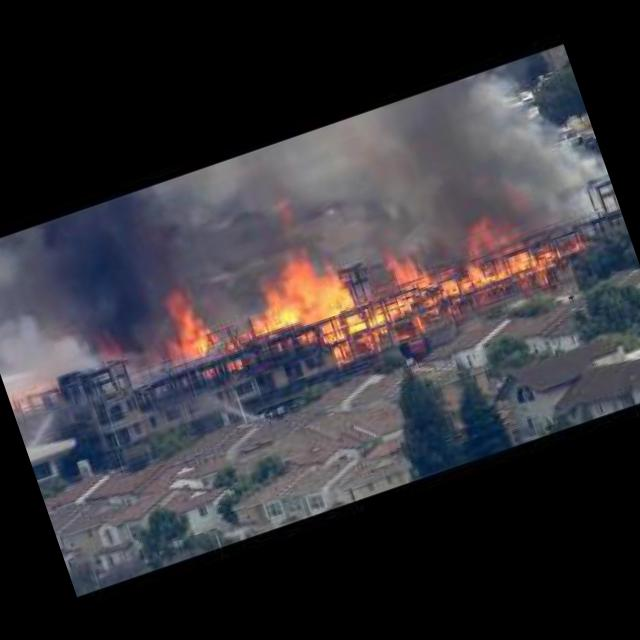fire: (146, 176, 587, 412)
smoke: (7, 171, 219, 376), (385, 64, 556, 266)
